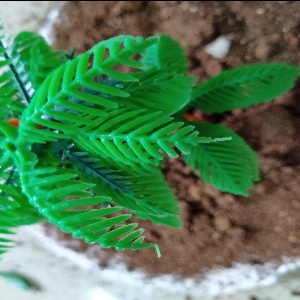plant: (1, 30, 300, 242)
